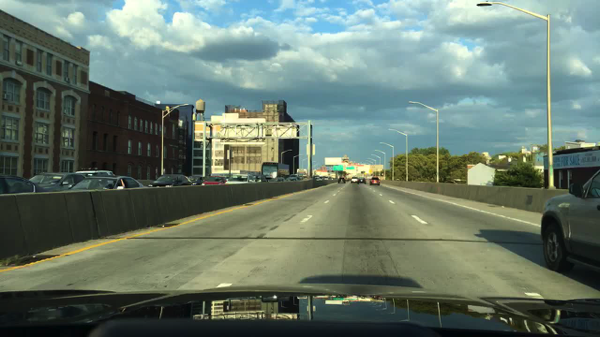bus: (261, 162, 289, 182)
car: (540, 169, 599, 272), (69, 176, 144, 193), (27, 172, 86, 192), (0, 175, 43, 194), (148, 174, 191, 187), (75, 169, 115, 179), (224, 173, 254, 185), (202, 175, 225, 186), (187, 176, 201, 186), (369, 176, 380, 187), (349, 176, 359, 184), (273, 176, 286, 181), (256, 176, 265, 183), (358, 178, 366, 185), (287, 174, 296, 180), (338, 177, 345, 184), (319, 176, 330, 180), (312, 175, 319, 181), (296, 174, 303, 180), (328, 176, 334, 180)
traffic sign: (220, 112, 265, 142), (271, 124, 297, 139), (306, 144, 316, 155), (333, 164, 342, 172), (345, 166, 354, 171), (367, 169, 372, 176)
